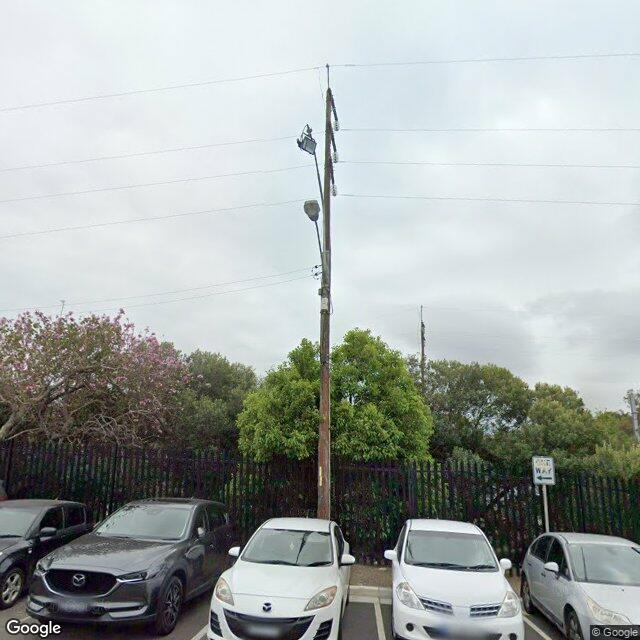HV-transmission: (326, 64, 339, 196)
streetlight: (305, 200, 329, 289)
timber-pole: (318, 88, 332, 518), (421, 323, 425, 393)
